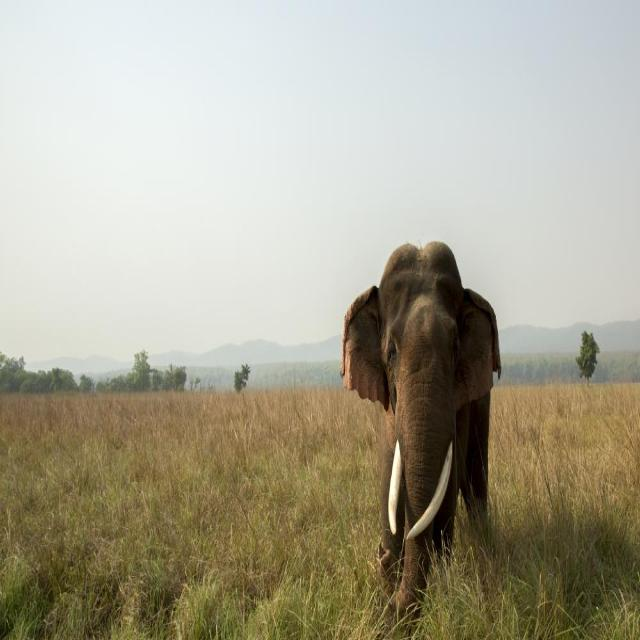Elephant: (334, 225, 508, 624)
